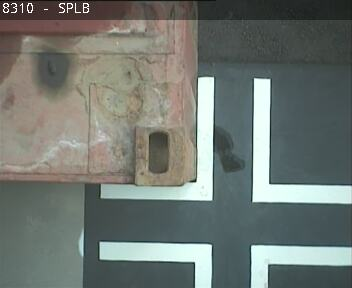groundmarker_1: (100, 79, 352, 204), (99, 239, 351, 288)
